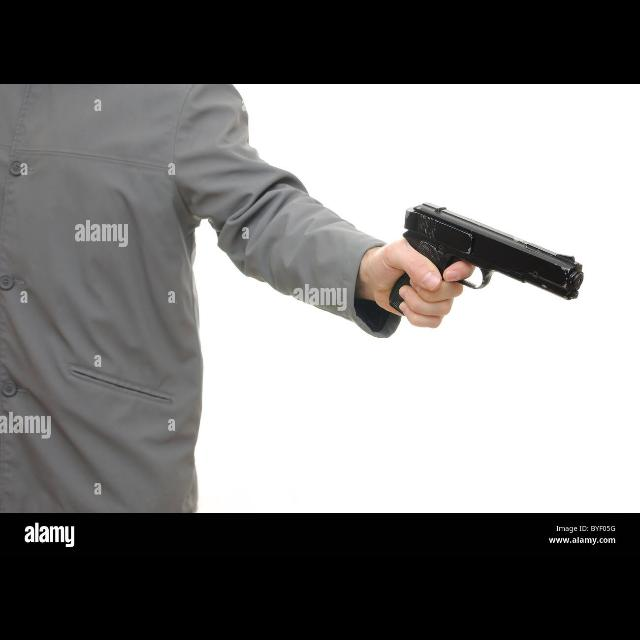handgun: (400, 200, 586, 300)
